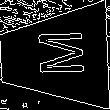M_W: (26, 33, 83, 81)
